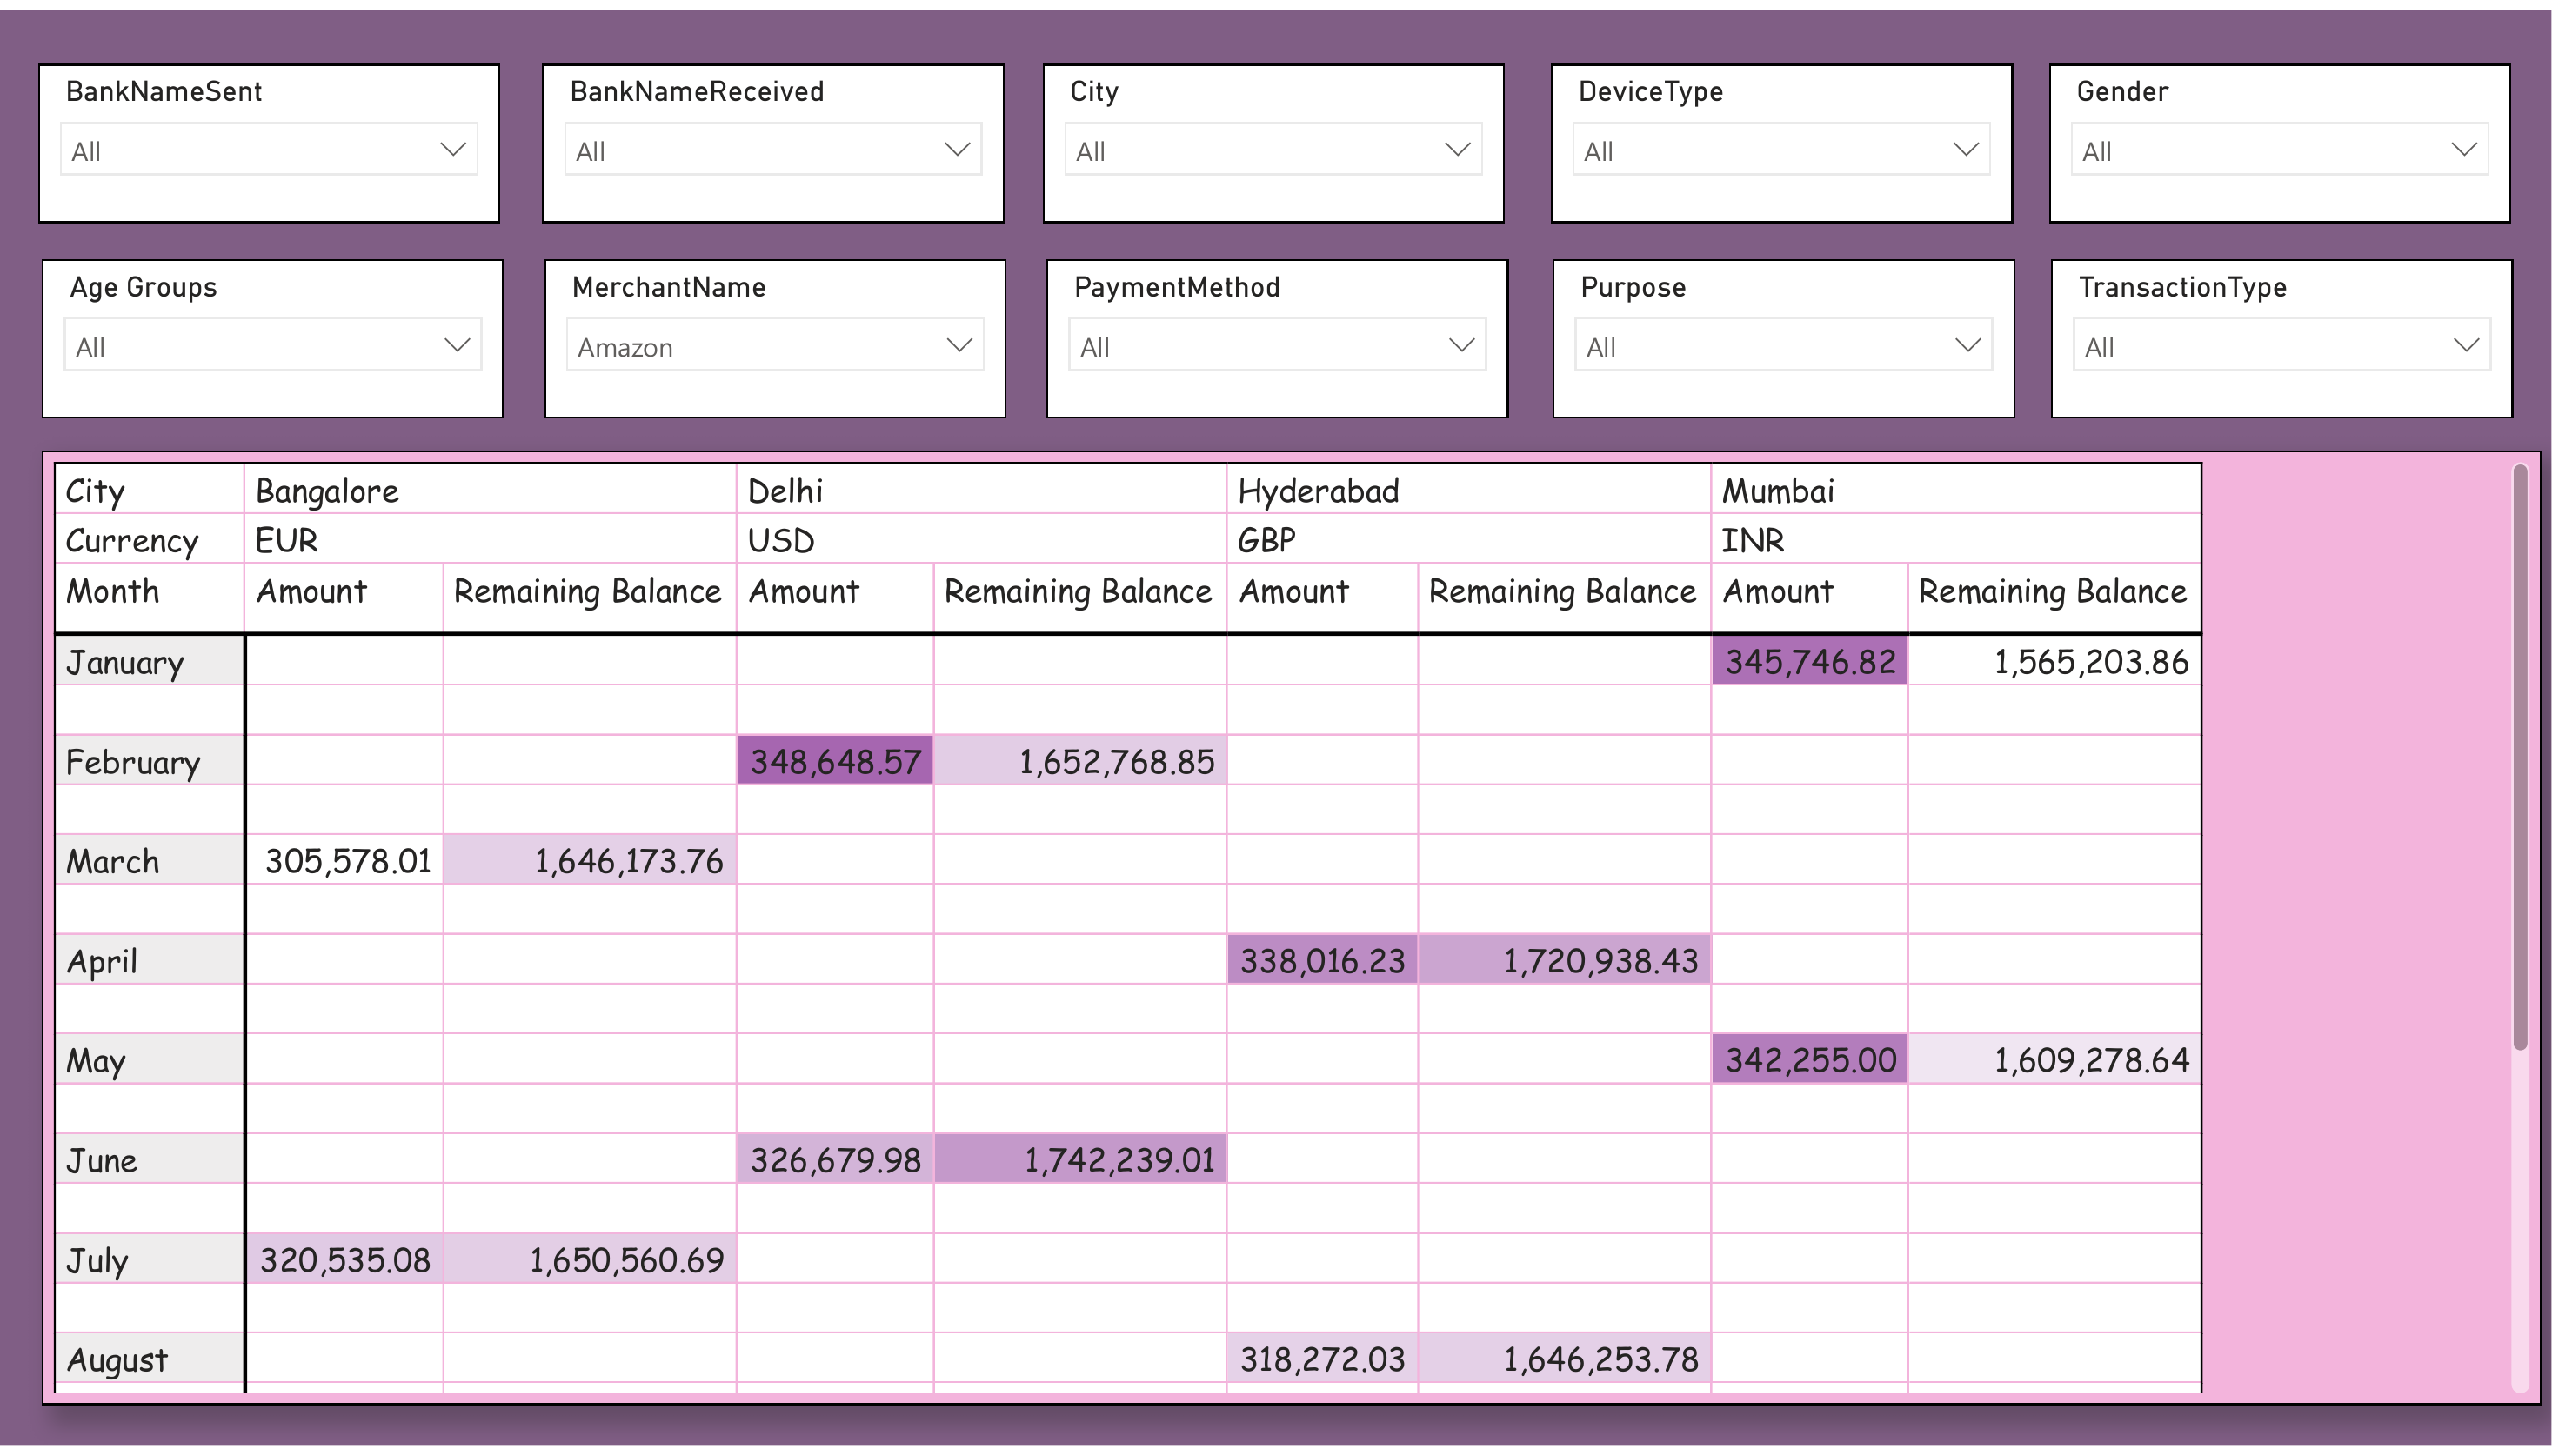

The dashboard page shown, as its layout file describes it:
{"tool":"powerbi","page":{"name":"Page 2","canvas":[1280,720],"ordinal":1},"visuals":[{"type":"slicer","fields":{"Values":["UPI Transactions.BankNameSent"]},"box":[19.1,27,232.2,79.5],"z":0},{"type":"slicer","fields":{"Values":["UPI Transactions.BankNameReceived"]},"box":[271.7,27.3,232.2,79.5],"z":1000},{"type":"slicer","fields":{"Values":["UPI Transactions.City"]},"box":[523,27.3,232.2,79.5],"z":2000},{"type":"slicer","fields":{"Values":["UPI Transactions.DeviceType"]},"box":[777.5,27.3,232.2,79.5],"z":3000},{"type":"slicer","fields":{"Values":["UPI Transactions.Gender"]},"box":[1027.7,27.3,232.2,79.5],"z":4000},{"type":"slicer","fields":{"Values":["UPI Transactions.Age Groups"]},"box":[20.6,125.1,232.2,79.5],"z":5000},{"type":"slicer","fields":{"Values":["UPI Transactions.MerchantName"]},"box":[273.2,125.3,232.2,79.5],"z":6000},{"type":"slicer","fields":{"Values":["UPI Transactions.PaymentMethod"]},"box":[524.5,125.3,232.2,79.5],"z":7000},{"type":"slicer","fields":{"Values":["UPI Transactions.Purpose"]},"box":[779,125.3,232.2,79.5],"z":8000},{"type":"slicer","fields":{"Values":["UPI Transactions.TransactionType"]},"box":[1029.2,125.3,232.2,79.5],"z":9000},{"type":"pivotTable","fields":{"Values":["Sum(UPI Transactions.Amount)","Sum(UPI Transactions.RemainingBalance)"],"Rows":["UPI Transactions.TransactionDate.Variation.Date Hierarchy.Month"],"Columns":["UPI Transactions.City","UPI Transactions.Currency"]},"box":[20.7,221.1,1254,478.8],"z":10000}]}

Visuals, with their boxes in screenshot pixels (x1, y1, x2, y2), scaled from the page's 1280x720 canvas onto the 2552x1456 screenshot:
slicer - UPI Transactions.BankNameSent: left=38, top=55, right=501, bottom=216
slicer - UPI Transactions.BankNameReceived: left=542, top=55, right=1005, bottom=216
slicer - UPI Transactions.City: left=1043, top=55, right=1506, bottom=216
slicer - UPI Transactions.DeviceType: left=1550, top=55, right=2013, bottom=216
slicer - UPI Transactions.Gender: left=2049, top=55, right=2512, bottom=216
slicer - UPI Transactions.Age Groups: left=41, top=253, right=504, bottom=414
slicer - UPI Transactions.MerchantName: left=544, top=253, right=1007, bottom=414
slicer - UPI Transactions.PaymentMethod: left=1046, top=253, right=1508, bottom=414
slicer - UPI Transactions.Purpose: left=1553, top=253, right=2016, bottom=414
slicer - UPI Transactions.TransactionType: left=2052, top=253, right=2515, bottom=414
pivotTable - Sum(UPI Transactions.Amount) x Sum(UPI Transactions.RemainingBalance): left=41, top=447, right=2542, bottom=1415
